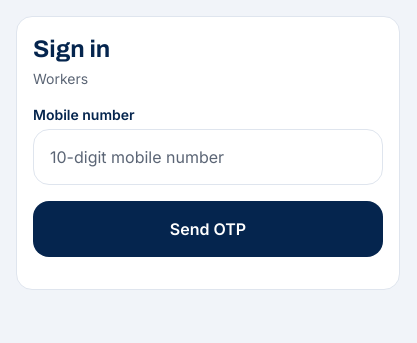
OtpLogin › shows a friendly error when sending the code fails
Type "9876543210" into the field labelled "Mobile number" at (208, 157), box [33,129,383,185]
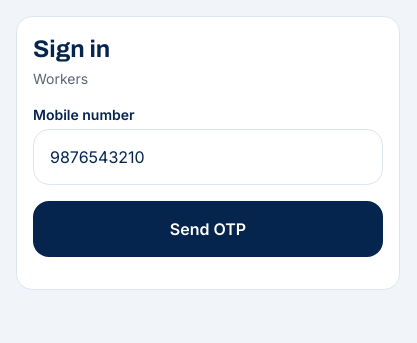
Click the button "Send OTP" at (208, 229), box [33,201,383,257]
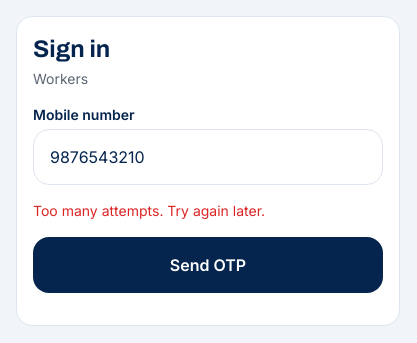
Check: the text "Too many attempts. Try again later." is shown, box [33,202,265,219]
